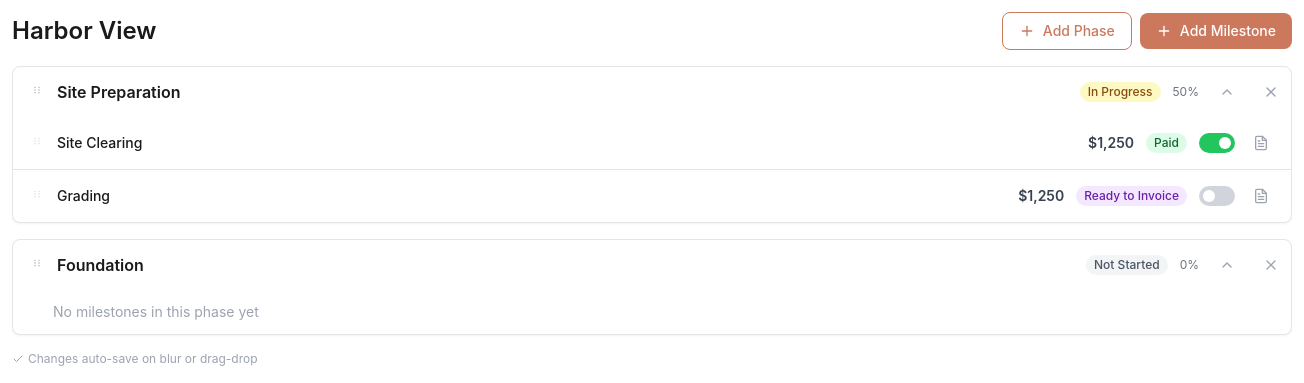
Test case: ScheduleBuilderPage › collapses a phase on header click and expands again
Expected: the text "Site Clearing" is shown, [57, 134, 142, 151]
Click the button "Site Preparation In Progress 50%".
click(119, 92)  # box [13, 67, 1251, 117]
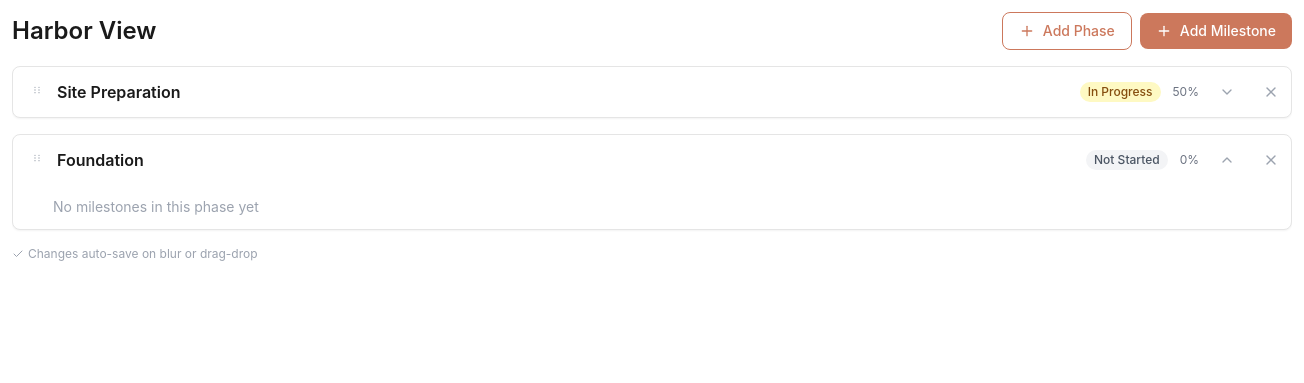
Result: the button "Site Preparation In Progress 50%" is collapsed
Click the button "Site Preparation In Progress 50%".
click(119, 92)  # box [13, 67, 1251, 117]
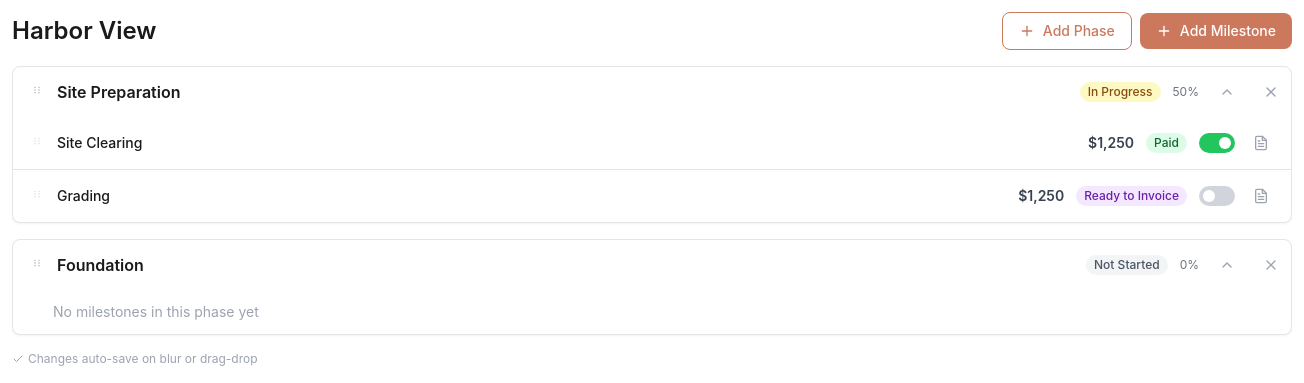
Result: the button "Site Preparation In Progress 50%" is expanded at [13, 67, 1251, 117]
